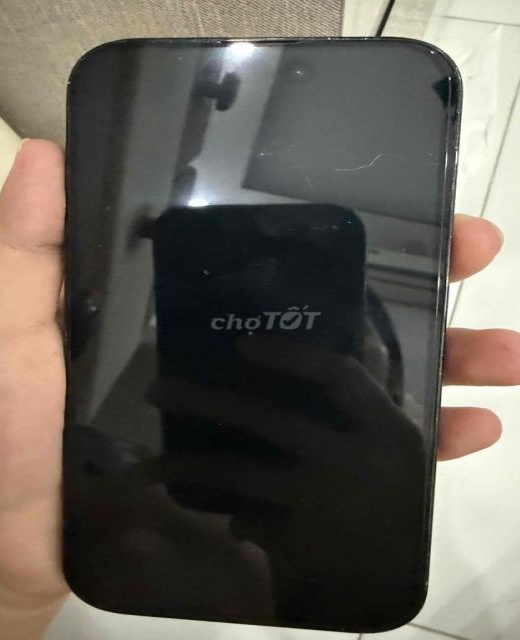scratch: (248, 147, 452, 216), (111, 27, 412, 56), (77, 199, 111, 331), (182, 255, 223, 285)
